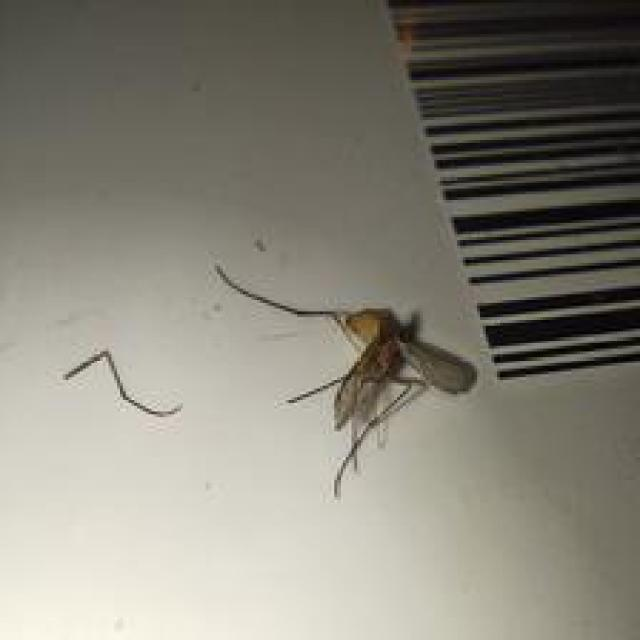Culex: (213, 262, 478, 498)
